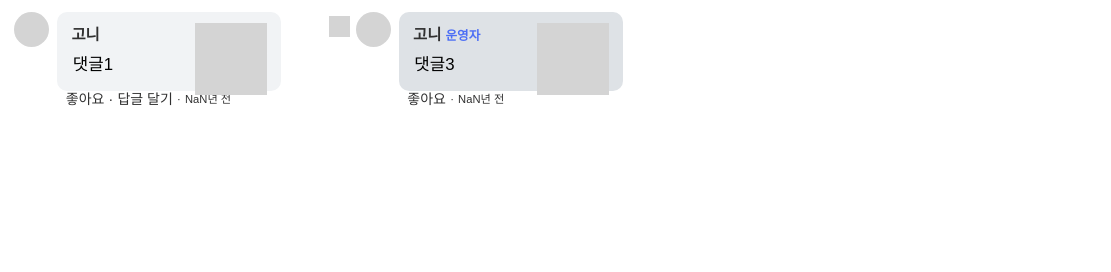
it: Comment test › logic test › CommentBottom의 답글달기 버튼을 클릭하면, 답글달기 CommentInput이 보인다.
Click the button with test id "comment-bottom-add-subcomment-button": (139, 100) [104,91,173,108]
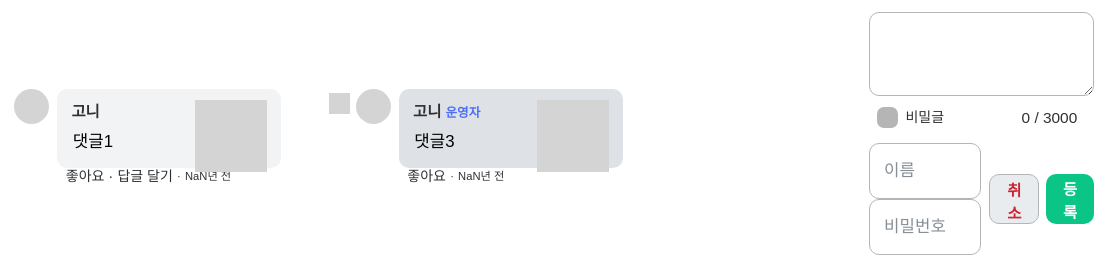
Check: the form with test id "comment-input" is shown, box [869,12,1094,255]
